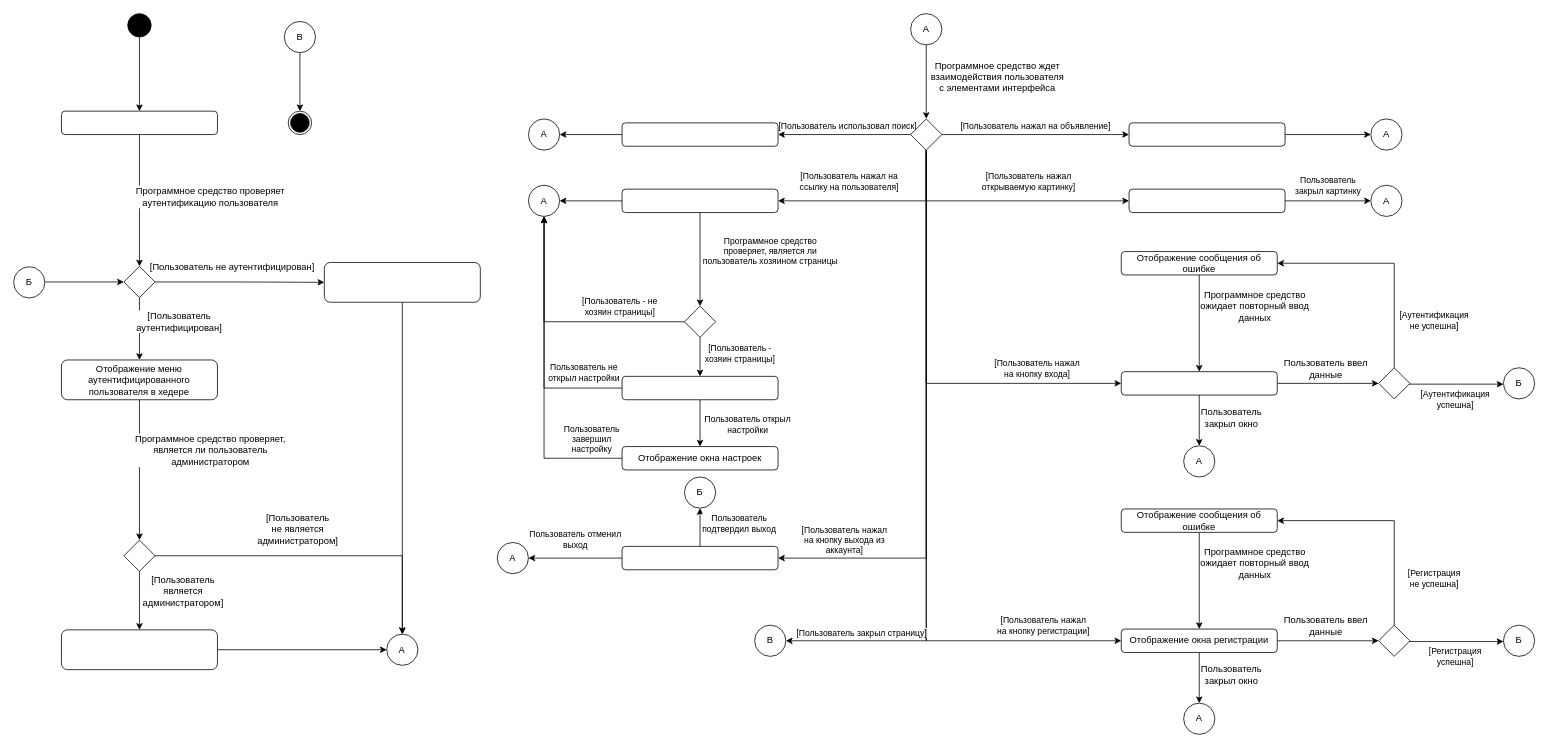
Some shapes in this 1548 by 748 pixel diagram are drawn without their labels. Each missing label, with the centre of its shape:
"Отображение главной страницы" belongs at pixel 139 122.
"Отображение картинки на весь экран" belongs at pixel 1206 200.
"Отображение кнопки перехода в админ-панель" belongs at pixel 139 649.
"Отображение кнопок входа и регистрации в хедере" belongs at pixel 402 282.
"Отображение окна входа" belongs at pixel 1198 383.
"Отображение окна с подтверждением" belongs at pixel 699 558.
"Отображение страницы объявления" belongs at pixel 1206 134.
"Отображение страницы пользователя" belongs at pixel 699 200.
"Отображение страницы результатов поиска" belongs at pixel 699 134.
"Отображение элементов управления аккаунтом" belongs at pixel 699 388.
